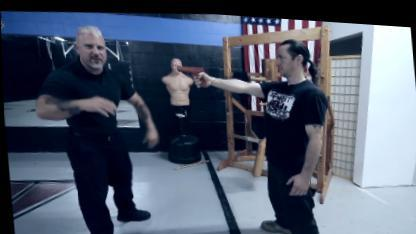pistol: (176, 61, 206, 85)
